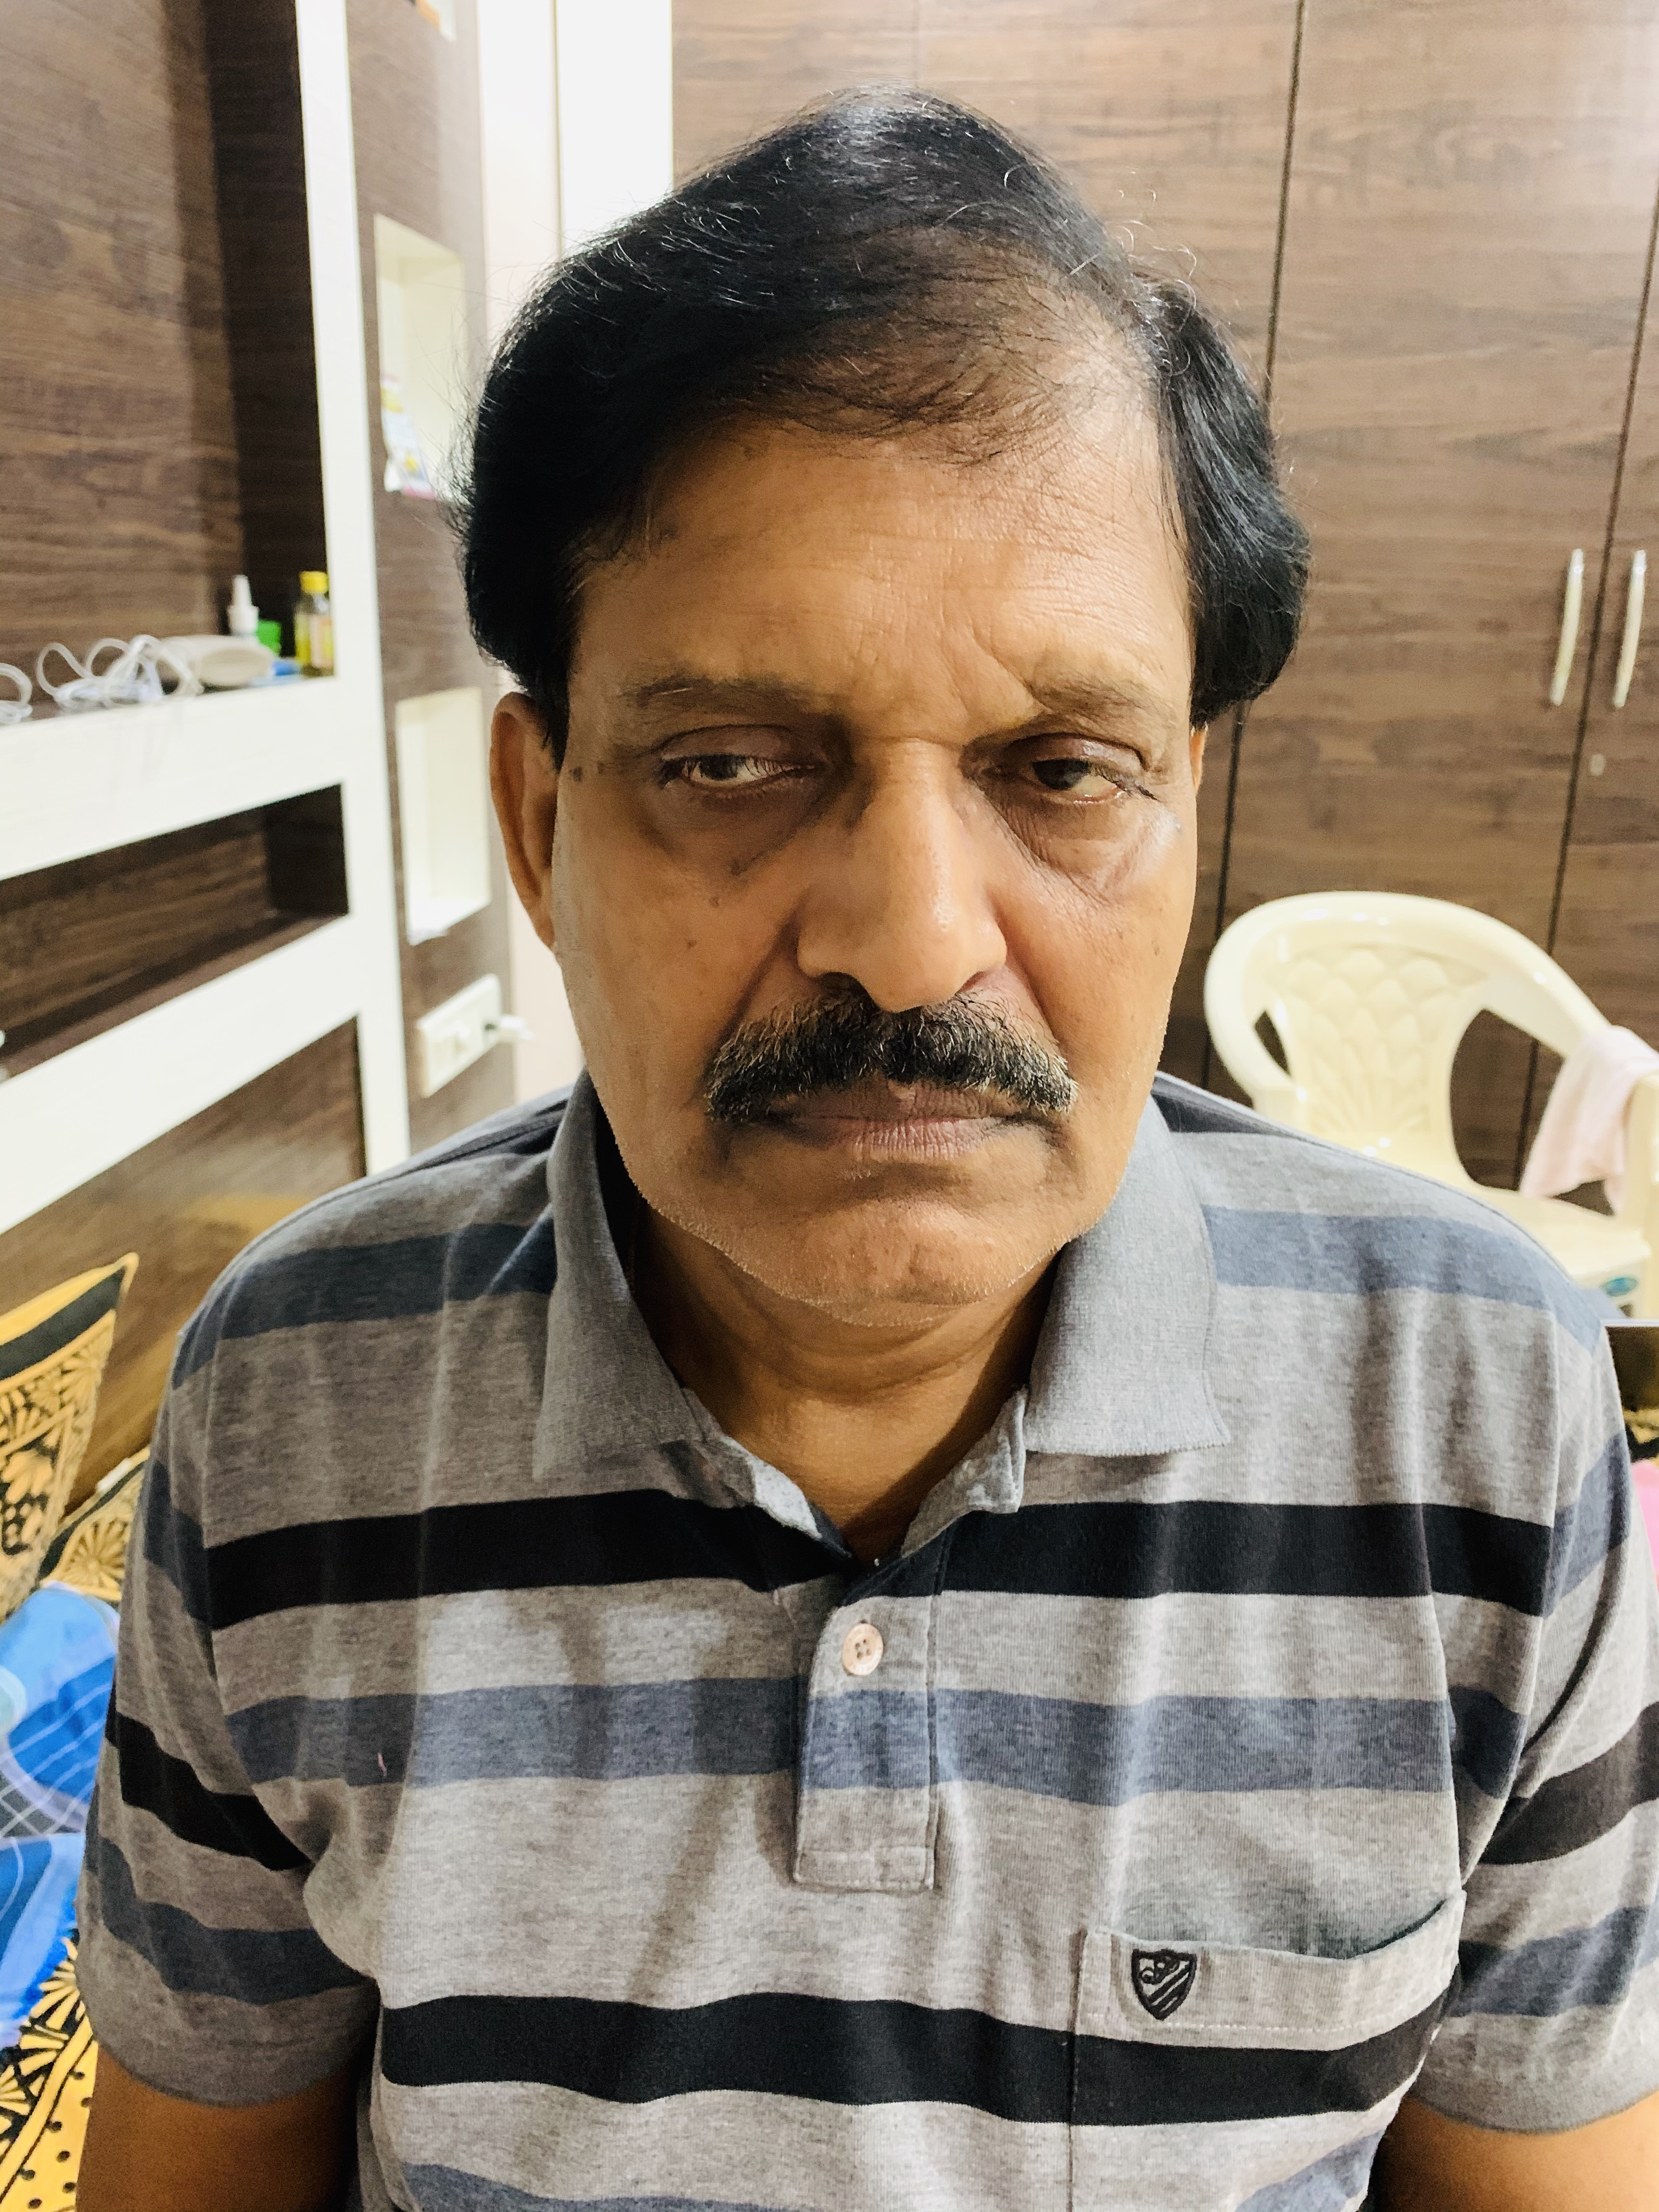Half Asleep: (598, 693, 1175, 845)
